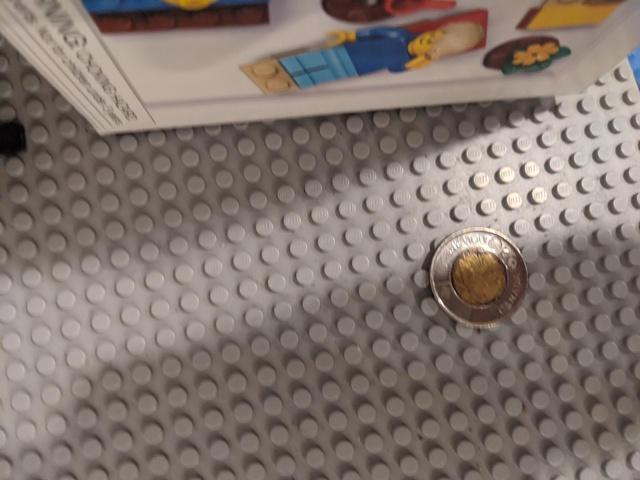twonie: (422, 218, 542, 331)
